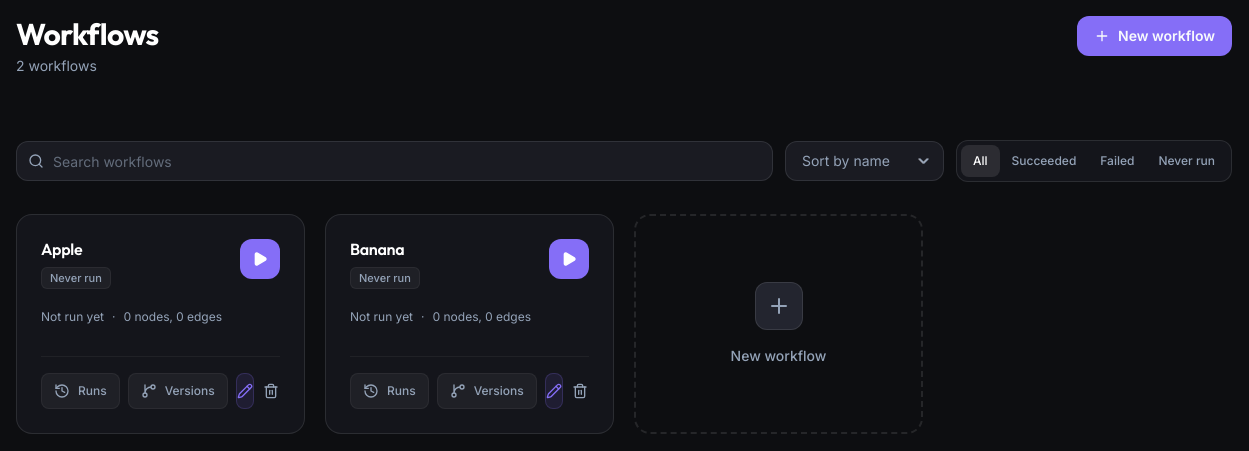
Test: Dashboard › filters workflows by search term
The image size is (1249, 451).
Check: the heading "Apple" is shown, box 41,239 -> 82,259
Check: the heading "Banana" is shown, box 350,239 -> 404,259
Type "app" into the search field with placeholder "Search workflows". click: [394, 161]
box: 16,141 -> 773,181
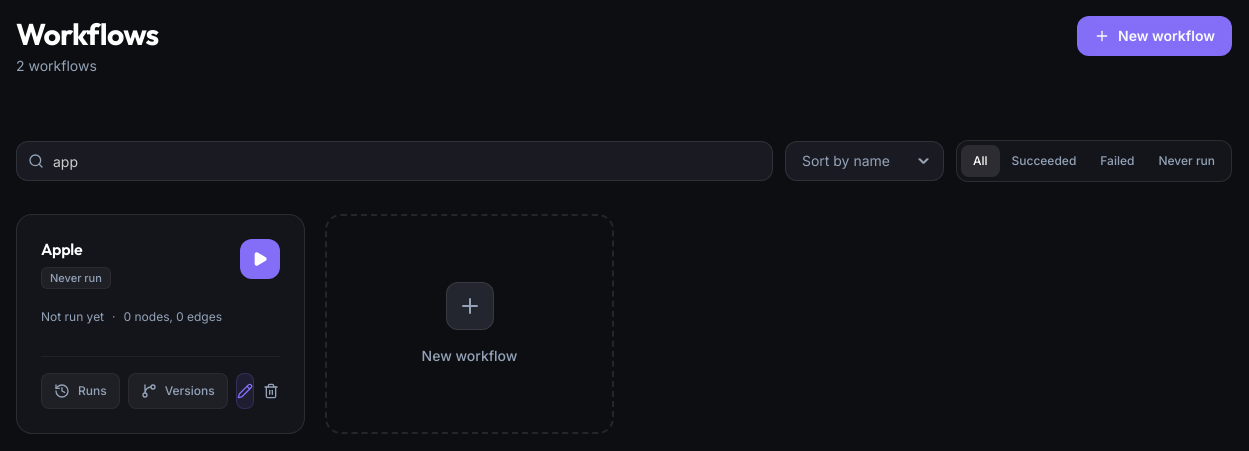
Check: the heading "Apple" is shown, box 41,239 -> 82,259
Check: the heading "Banana" is gone
